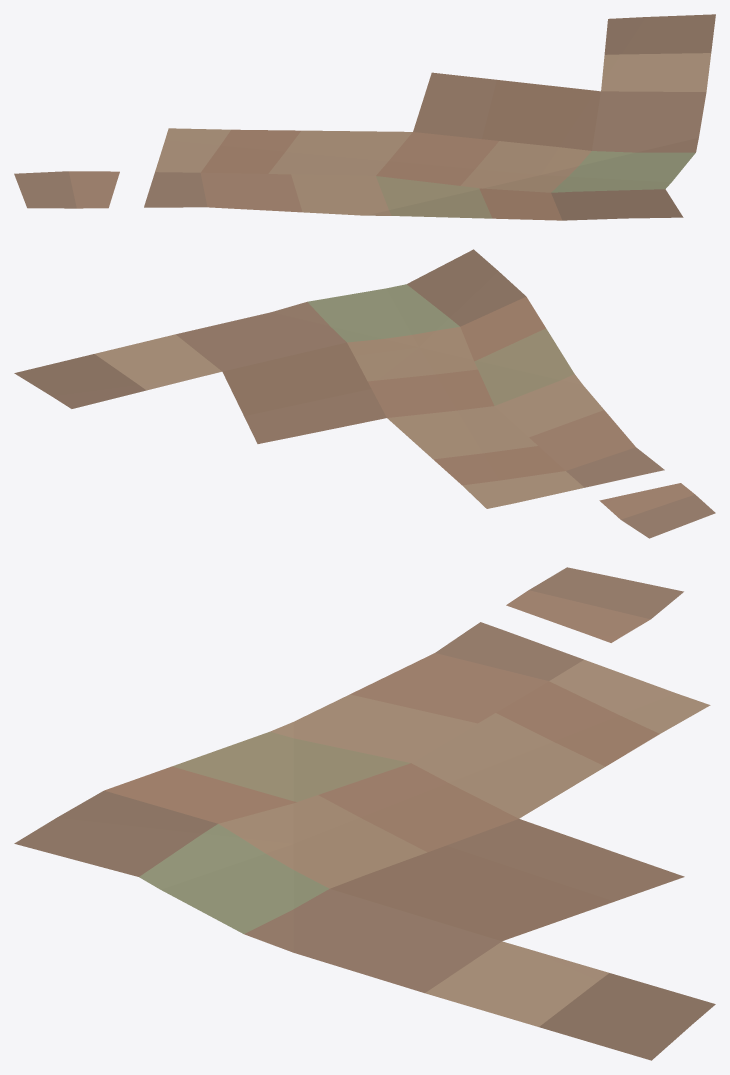
The model's file is farm_-41_-41_soil.glb.
The picture shows the model from 3 angles, top to bottom: view 1: azimuth 30°, elevation 25°; view 2: azimuth 150°, elevation 25°; view 3: azimuth 270°, elevation 25°; orthographic projection. The views are drawn at different scales.
Visible parts, largest first — view 1: geometry_0; view 2: geometry_0; view 3: geometry_0.
Boxes of the visible parts, x1,y1,x2,y2 form: geometry_0: (14, 14, 715, 220); geometry_0: (14, 249, 715, 538); geometry_0: (14, 567, 715, 1060).
Bounding box in the file's own units: 181 × 7.1 × 110.
